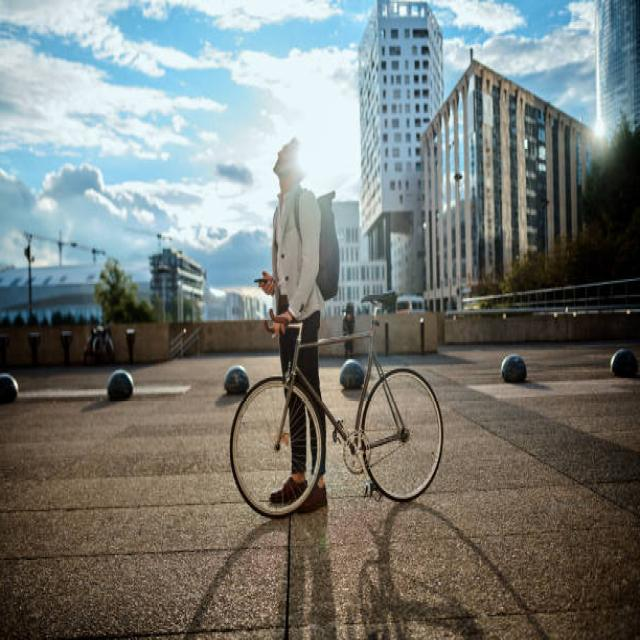bicycle: (230, 142, 442, 517)
